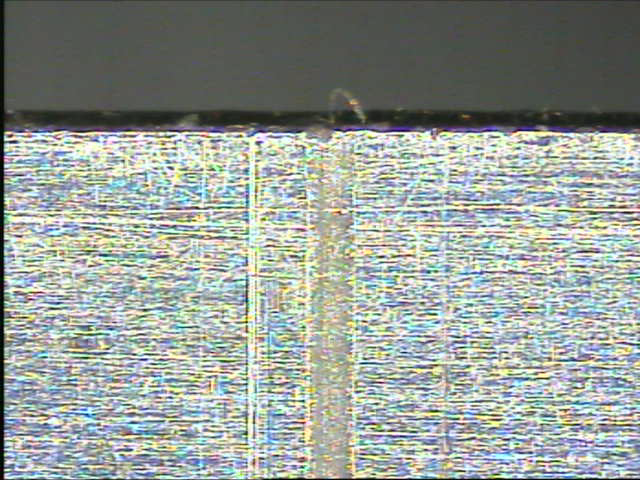line: (304, 133, 357, 474)
